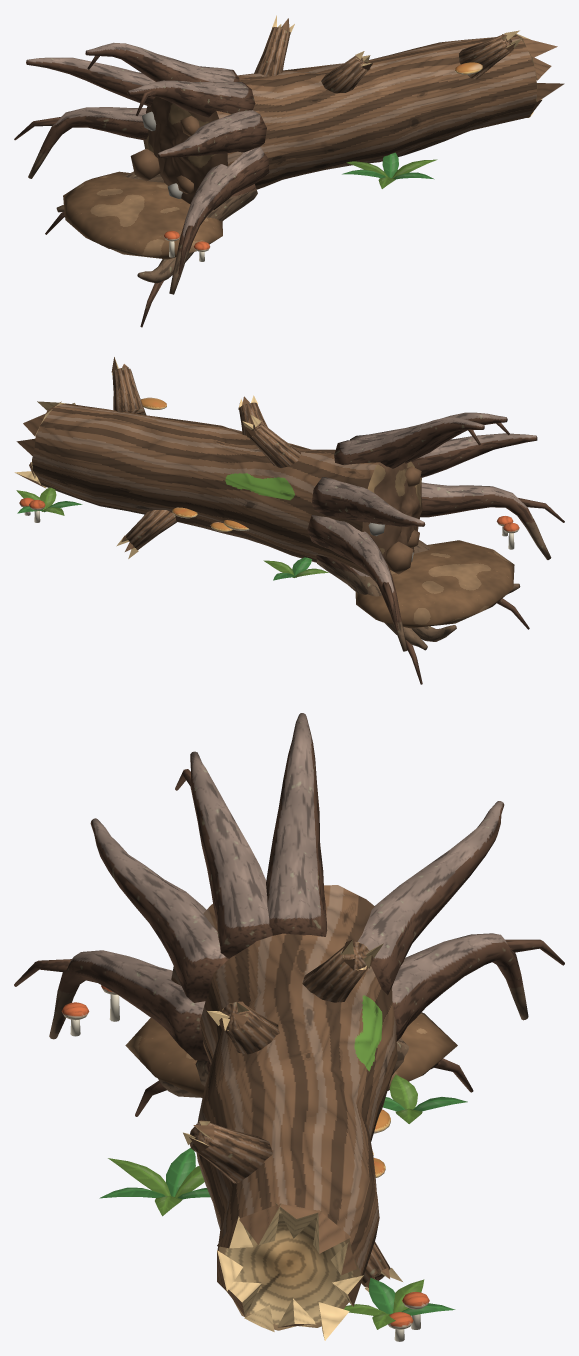
Rendered from fallen_log.glb.
3 renders of one model, top to bottom at view 1: azimuth 30°, elevation 25°; view 2: azimuth 150°, elevation 25°; view 3: azimuth 270°, elevation 25°, orthographic. The views are drawn at different scales.
Parts seen in each view (by area): view 1: FallenLog, FallenLog_leaf; view 2: FallenLog, FallenLog_leaf; view 3: FallenLog, FallenLog_leaf.
Boxes of the visible parts, box(x1,y1,x2,y2) form: FallenLog: box(14, 15, 564, 327); FallenLog_leaf: box(342, 152, 437, 188); FallenLog: box(14, 357, 564, 684); FallenLog_leaf: box(16, 487, 328, 580); FallenLog: box(14, 713, 564, 1341); FallenLog_leaf: box(99, 1074, 467, 1329).
Bounding box in the file's own units: 3.89 × 1.91 × 2.38.
1 material, 1 textured.
